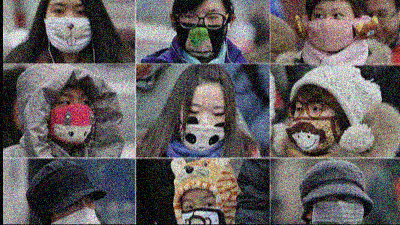with_mask: (41, 2, 93, 54), (288, 96, 338, 150), (176, 6, 228, 57), (49, 89, 96, 145), (178, 100, 228, 147), (310, 6, 354, 52), (308, 195, 365, 224), (52, 194, 96, 224), (181, 192, 221, 224)
